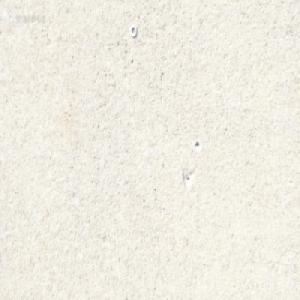Washer: (130, 23, 138, 37)
